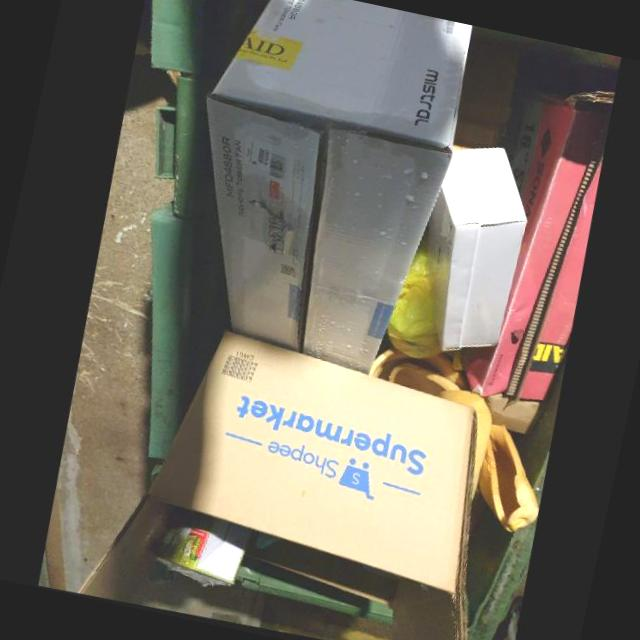carton: (73, 328, 477, 640), (205, 0, 473, 374), (450, 93, 614, 434), (425, 148, 526, 352)
